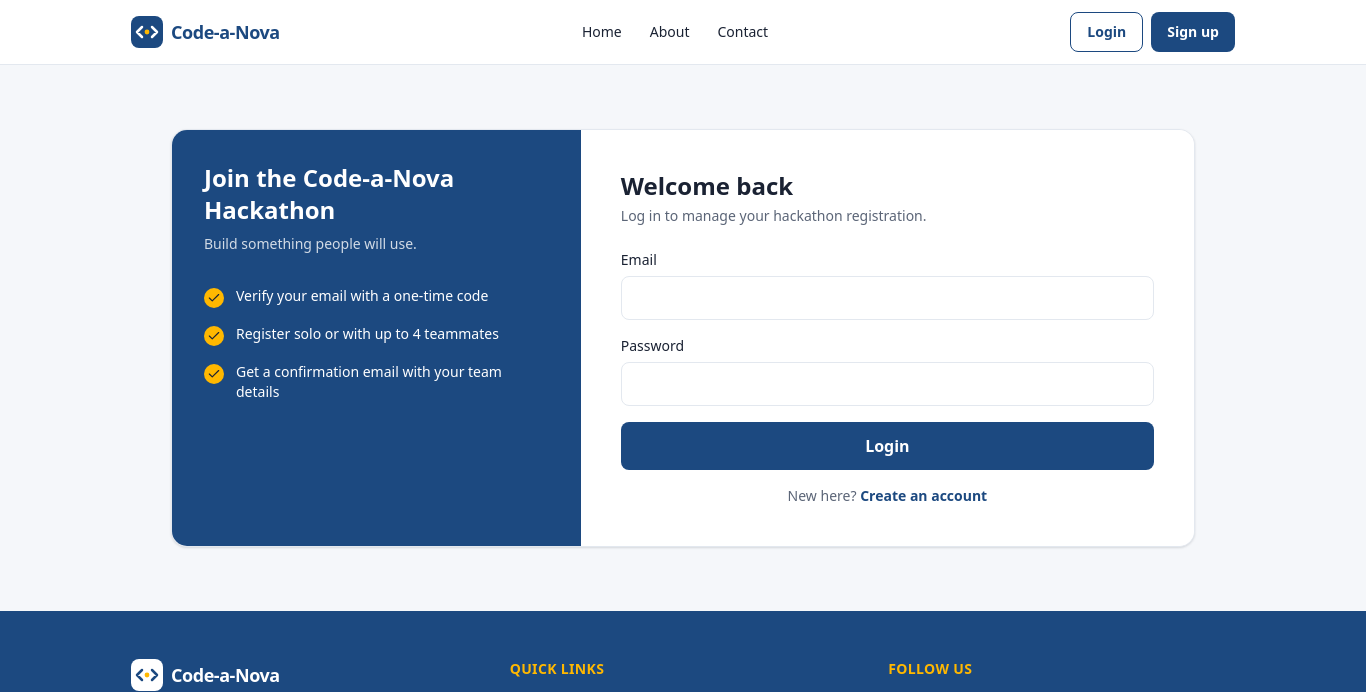
Test: login, guards and dashboard › wrong credentials show the server message and keep the user logged out
In the field labelled "Email": (887, 298) [621,276,1154,320], type "aanya@example.com"
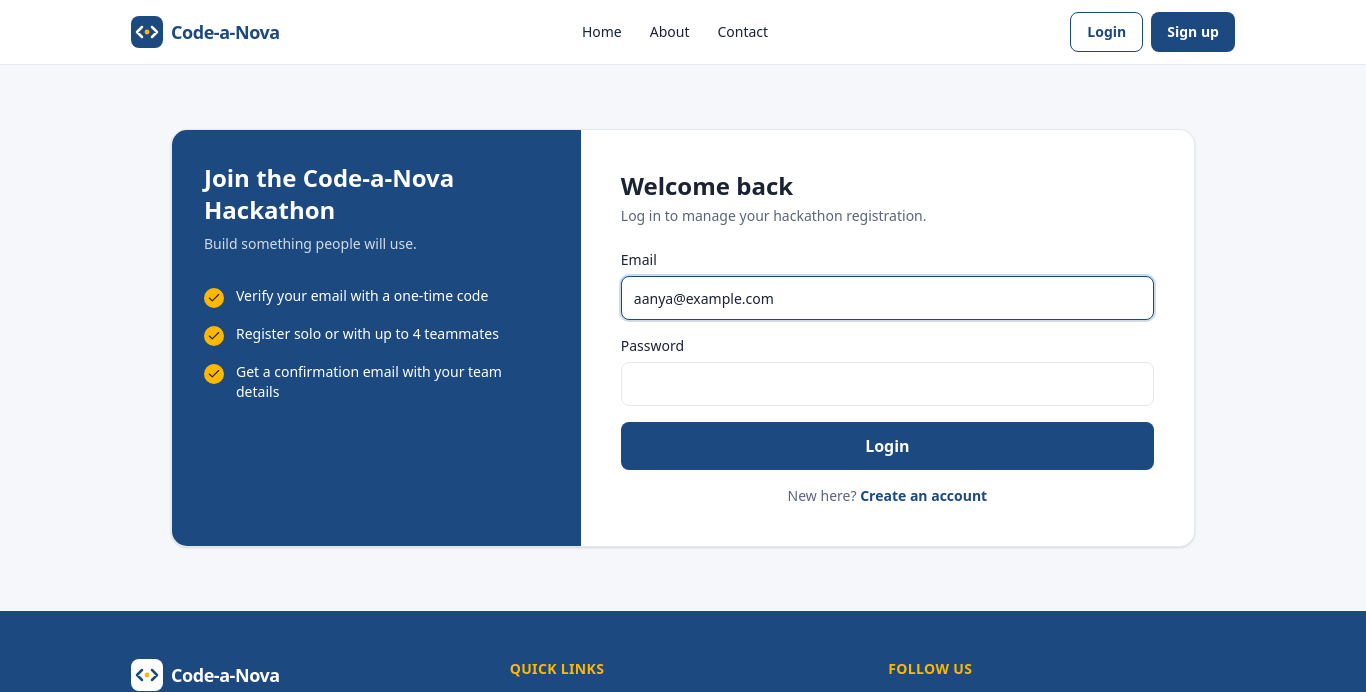
In the password field labelled "Password": (887, 384) [621,362,1154,406], type "WrongPass1"
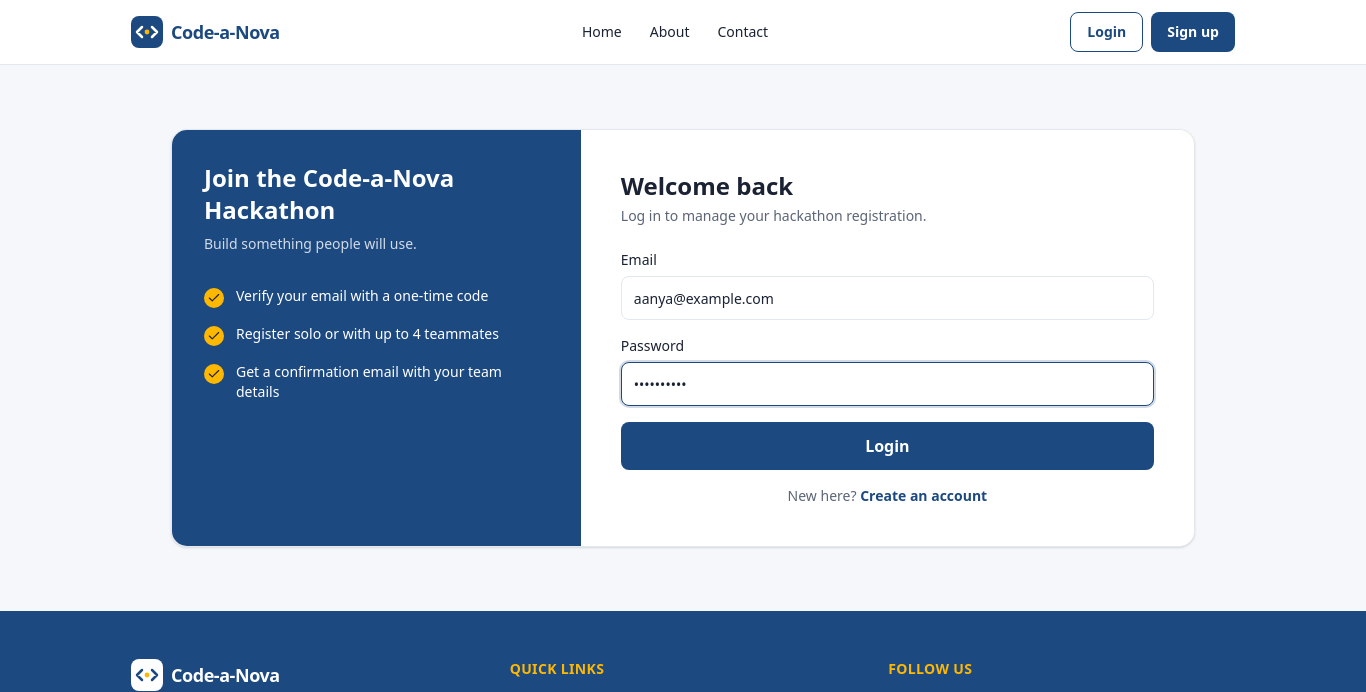
Click the button "Login": click(887, 446) [621,422,1154,470]
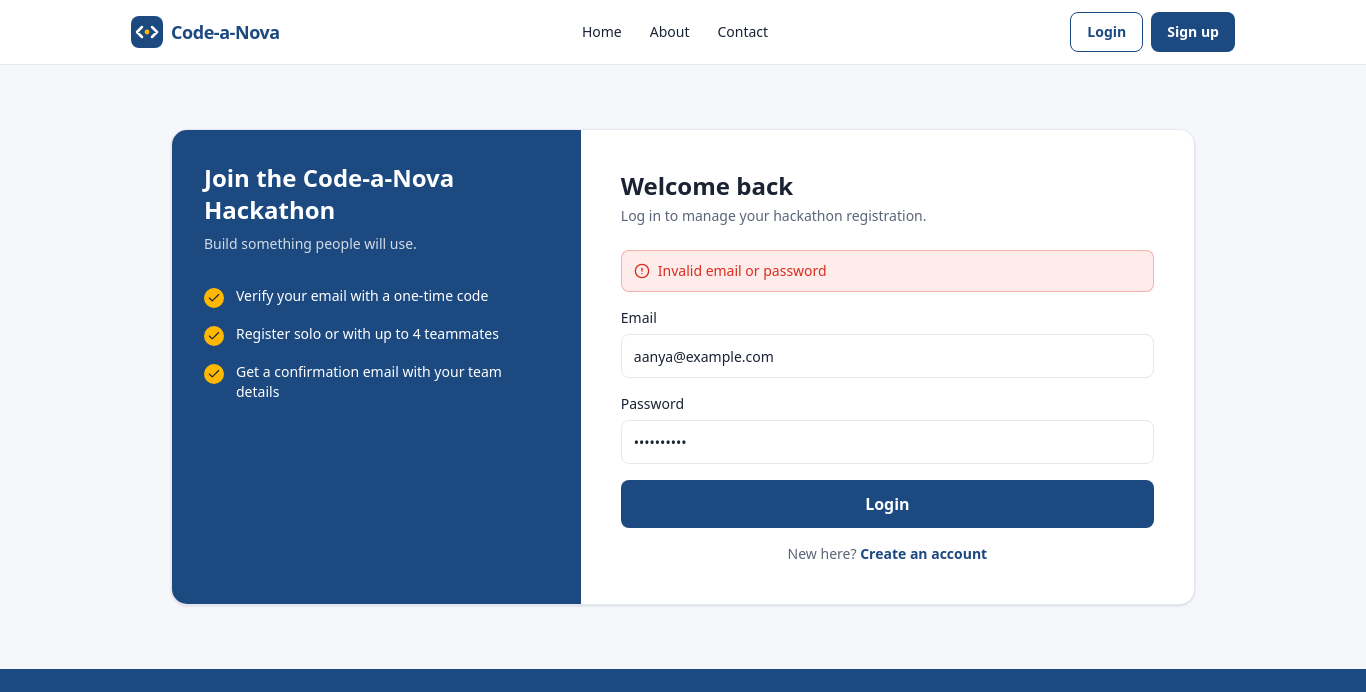
Check: the message reads "Invalid email or password", box [658,261,827,280]
